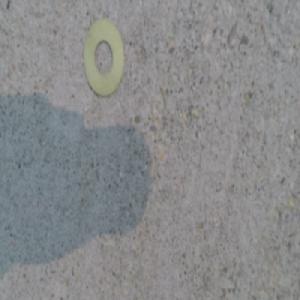Washer: (81, 22, 123, 100)
